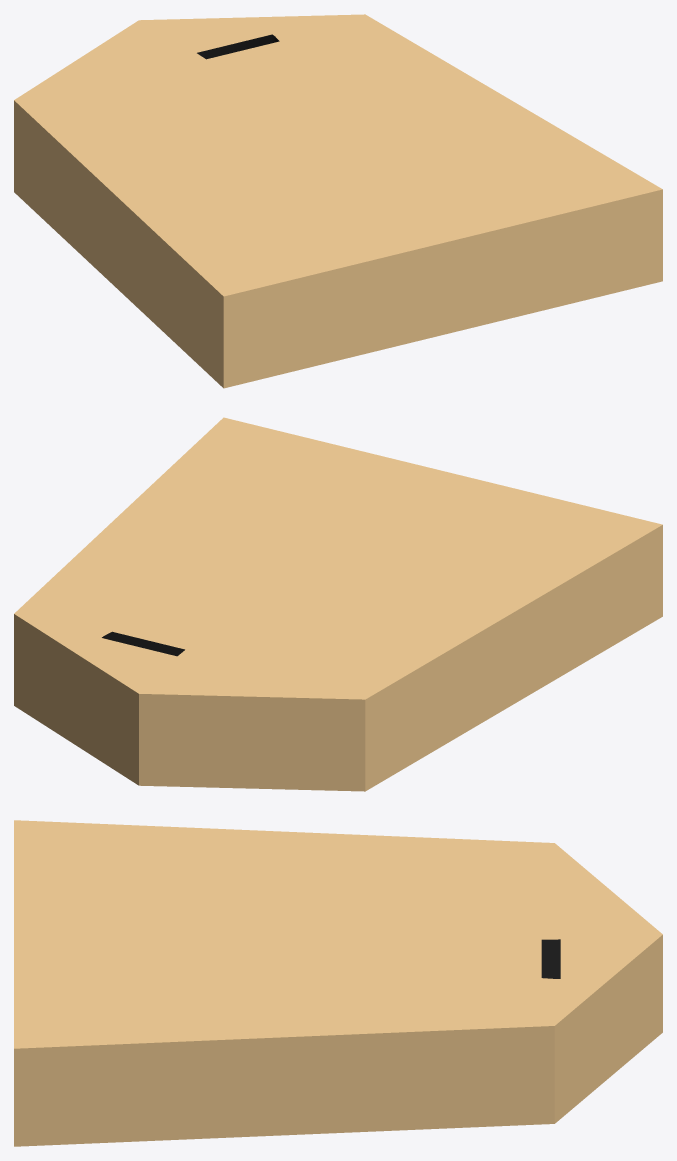
File: ShogiPiece_King.fbx
3 views of the same model, one above another, from view 1: azimuth 30°, elevation 25°; view 2: azimuth 150°, elevation 25°; view 3: azimuth 270°, elevation 25° (orthographic). The views are drawn at different scales.
Parts seen in each view (by area): view 1: Cube, Cube.001; view 2: Cube, Cube.001; view 3: Cube, Cube.001.
Part boxes in pixels (x1,y1,x2,y2): Cube: (14,14,662,388); Cube.001: (197,34,279,59); Cube: (14,417,662,791); Cube.001: (102,631,184,656); Cube: (14,820,662,1146); Cube.001: (541,939,560,978).
Size of the model in its own units: 250 by 300 by 50.
